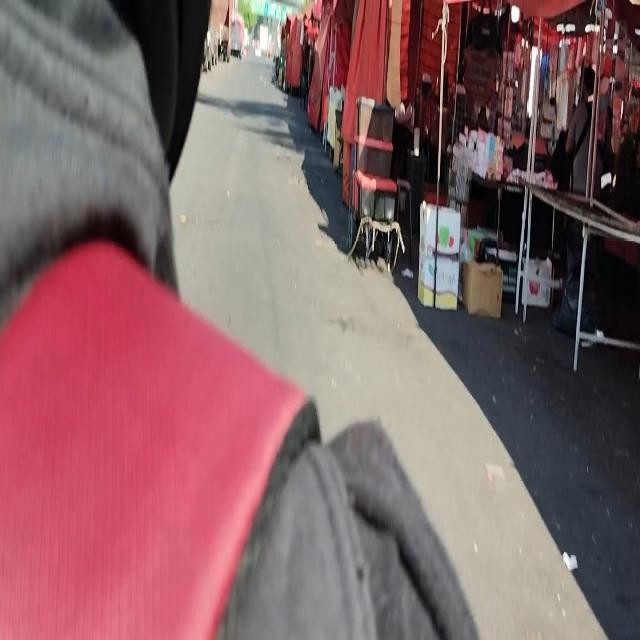adult: (566, 67, 610, 192)
